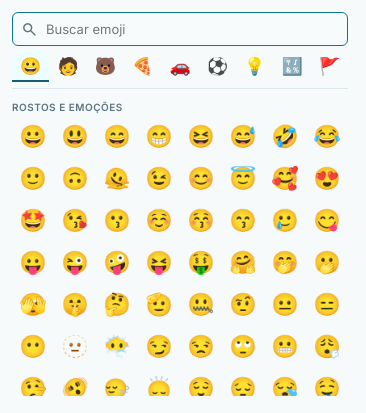
it: EmojiPicker › switches between categories from the compact icon bar
Click the tab named "Bandeiras" at x=329, y=67, box [311,52,348,82]
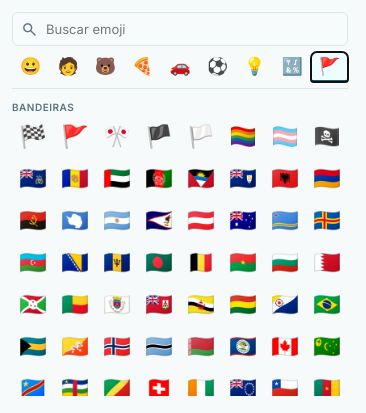
Check: the button named "bandeira: Brasil" is shown, box [306,283,348,325]
